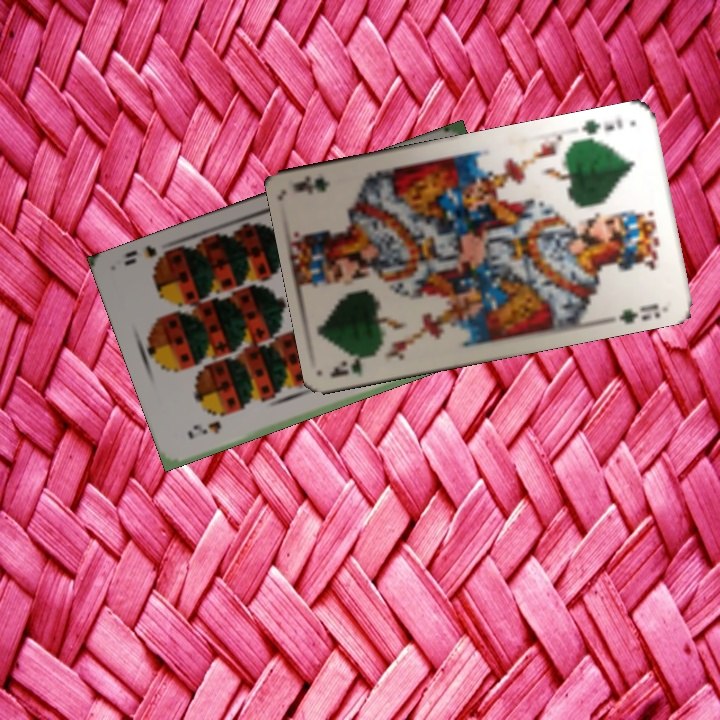GK: (327, 347, 383, 380), (578, 113, 626, 138)
S9: (183, 417, 224, 442)
